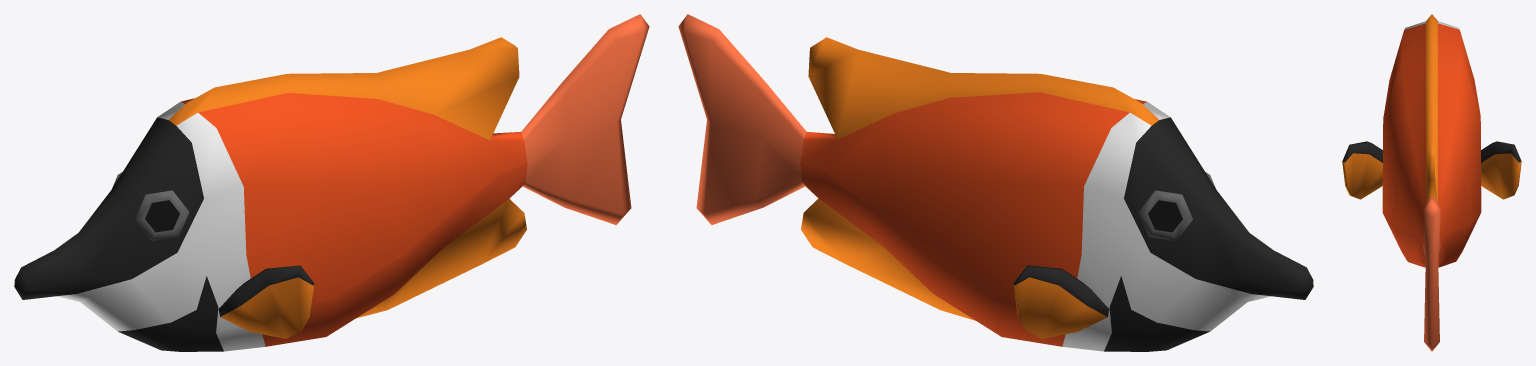
Rendered from Fish_006.fbx.
3 renders of one model, left to right at view 1: azimuth 30°, elevation 25°; view 2: azimuth 150°, elevation 25°; view 3: azimuth 270°, elevation 25°, orthographic. The views are drawn at different scales.
Parts seen in each view (by area): view 1: Fish_006; view 2: Fish_006; view 3: Fish_006.
Boxes of the visible parts, bbox=[...] form: Fish_006: bbox=[14, 14, 649, 351]; Fish_006: bbox=[678, 14, 1313, 351]; Fish_006: bbox=[1342, 14, 1521, 351].
Bounding box in the file's own units: 64.68 × 20.45 × 25.85.
1 material, 1 textured.
